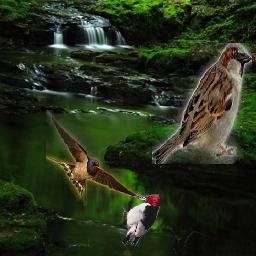Sparrow: (152, 44, 252, 165)
Swallow: (47, 110, 144, 206)
Woodpecker: (122, 194, 161, 246)
